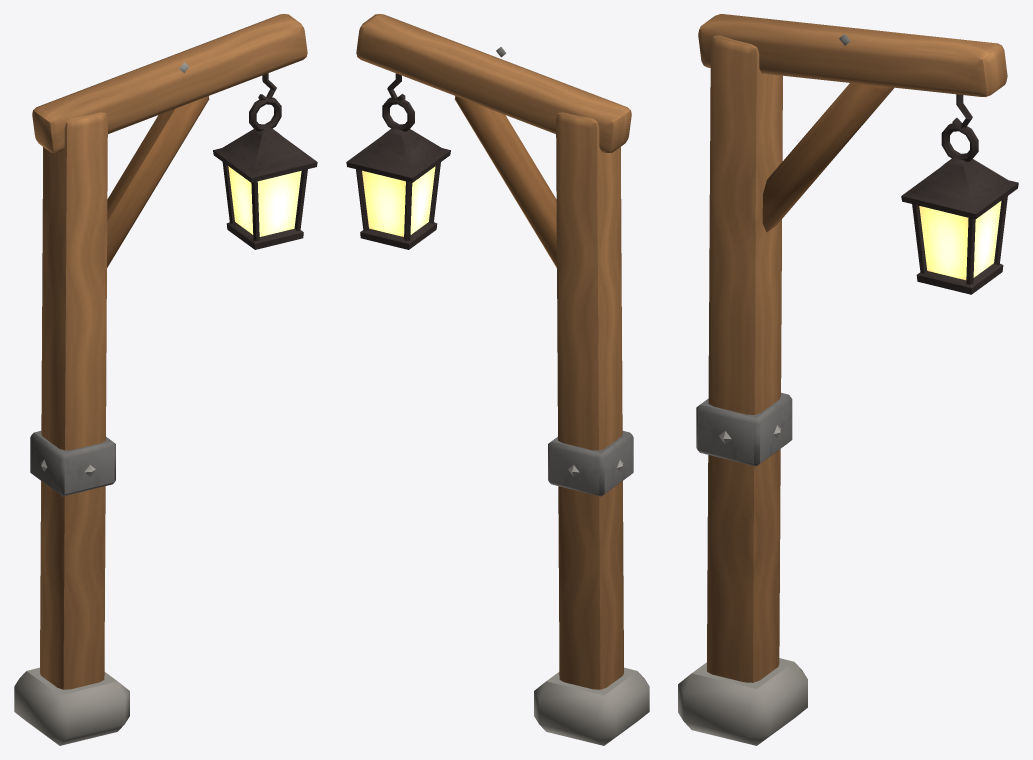
The model's file is wood-post-lamp.glb.
3 renders of one model, left to right at view 1: azimuth 30°, elevation 25°; view 2: azimuth 150°, elevation 25°; view 3: azimuth 330°, elevation 25°, orthographic. The views are drawn at different scales.
Parts seen in each view (by area): view 1: wood-post-lamp; view 2: wood-post-lamp; view 3: wood-post-lamp.
Boxes of the visible parts, x1=… form: wood-post-lamp: x1=14, y1=14, x2=317, y2=745; wood-post-lamp: x1=346, y1=14, x2=649, y2=745; wood-post-lamp: x1=678, y1=14, x2=1018, y2=745.
Bounding box in the file's own units: 1.12 × 2.59 × 0.34.
4 materials, 3 textured.
